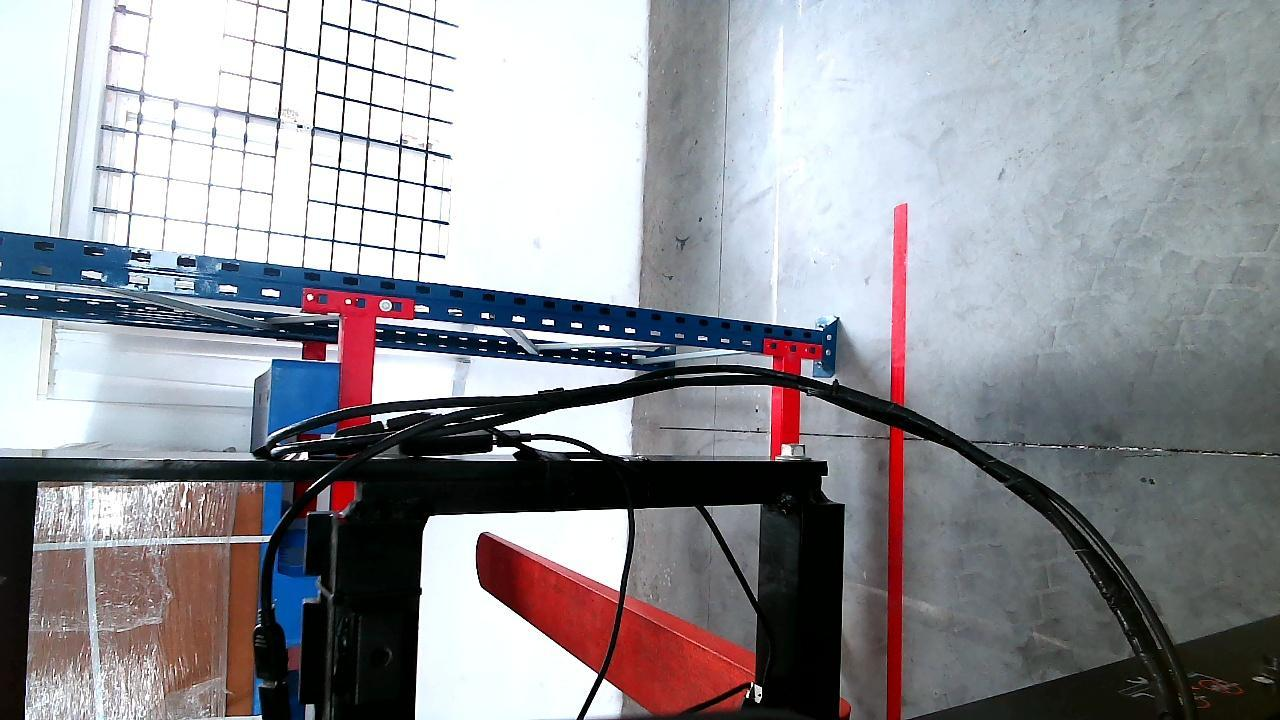red_line: (884, 201, 909, 718)
